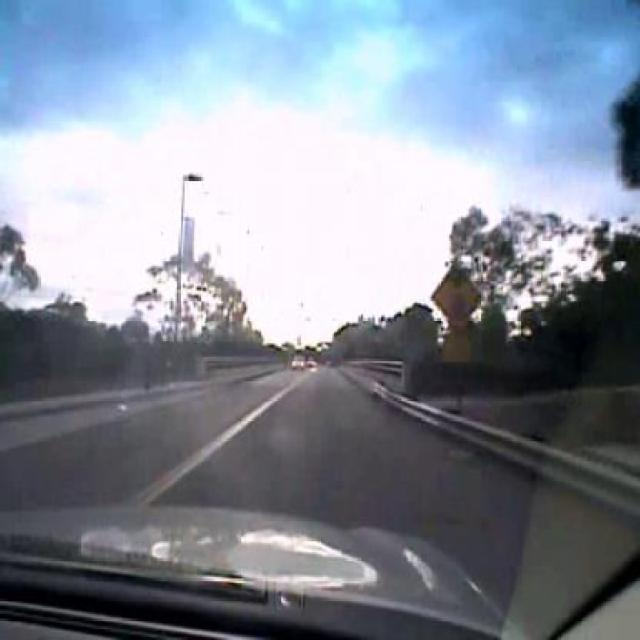stopAhead: (429, 265, 481, 330)
